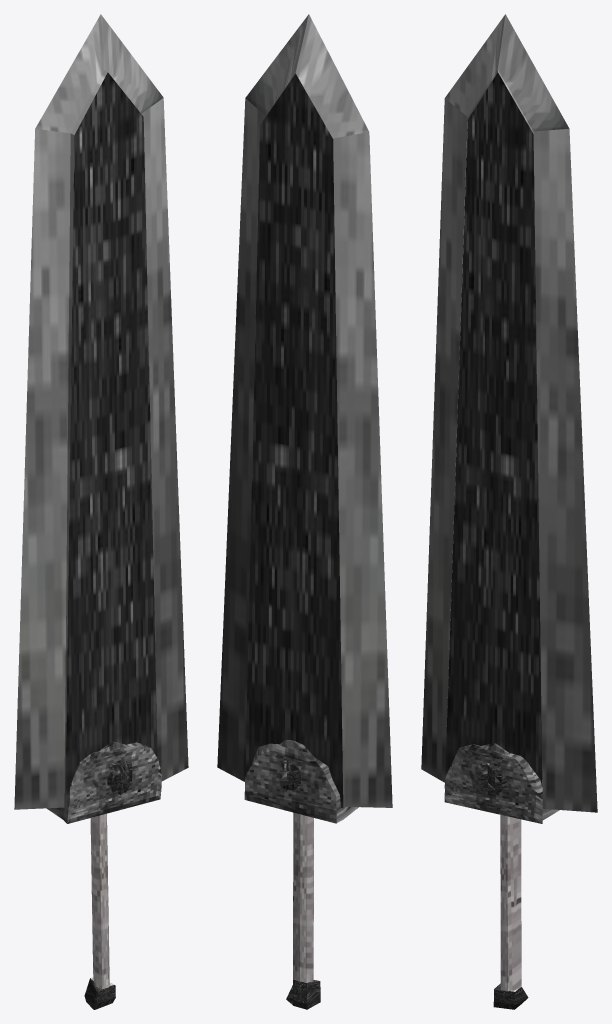
File: guts_sword_psx.glb
The picture shows the model from 3 angles, left to right: view 1: azimuth 30°, elevation 25°; view 2: azimuth 150°, elevation 25°; view 3: azimuth 330°, elevation 25°; orthographic projection.
Visible parts, largest first — view 1: Cube; view 2: Cube; view 3: Cube.
Boxes of the visible parts, bbox=[...] form: Cube: bbox=[14, 14, 188, 1009]; Cube: bbox=[217, 14, 392, 1009]; Cube: bbox=[421, 14, 597, 1009].
Size of the model in its own units: 1.67 by 9.06 by 0.8595.
Materials: 1 (1 with a texture image).
